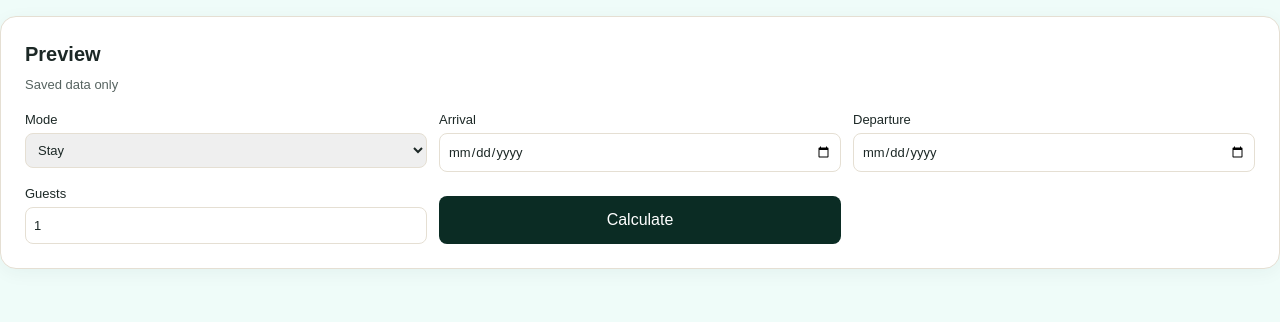
saved-price preview state › rejects malformed success instead of displaying a zero quote
The width and height of the screenshot is (1280, 322).
Type "2028-06-01" into the date field labelled "Arrival" at (640,152), box [439,133,841,172]
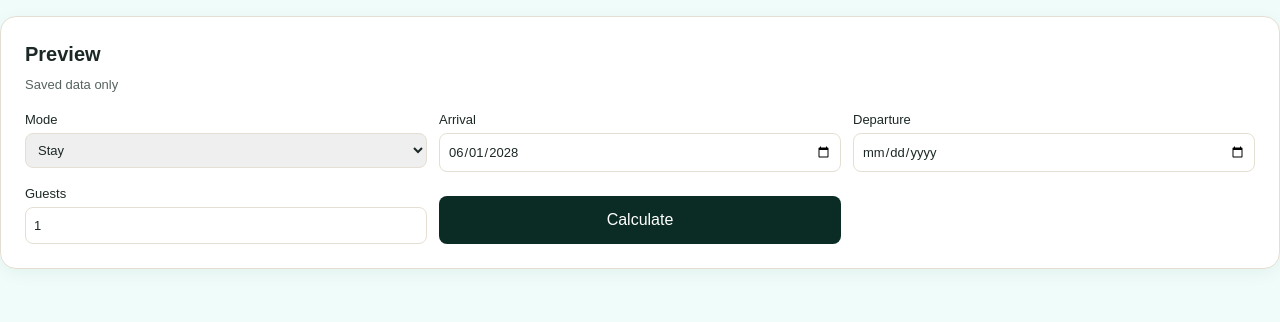
Type "2028-06-04" into the date field labelled "Departure" at (1054,152), box [853,133,1255,172]
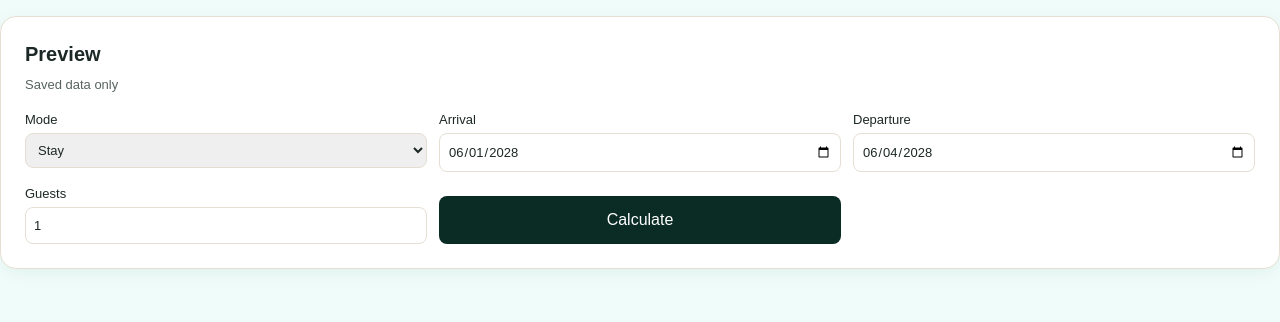
Click the button "Calculate" at (640,220), box [439,196,841,244]
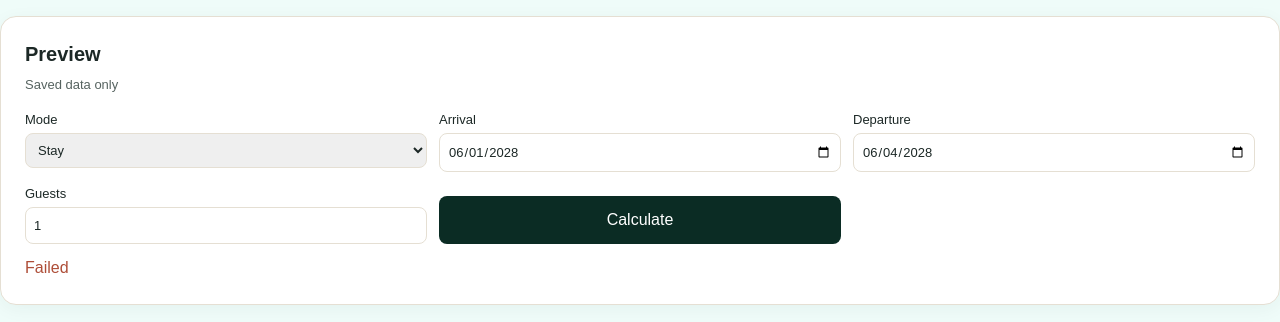
Expected: the message reads "Failed", [25,259,69,276]
